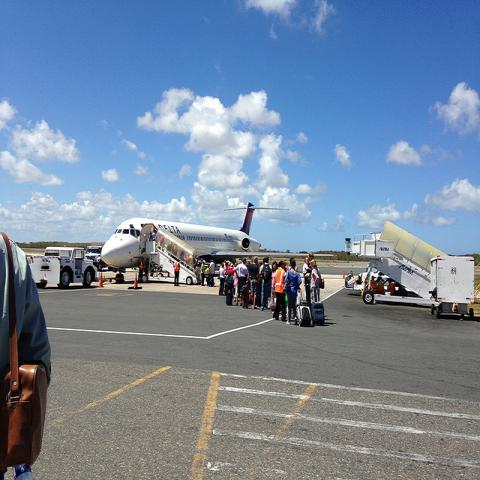truck: (375, 256, 478, 318), (27, 246, 100, 288), (85, 246, 103, 270)
